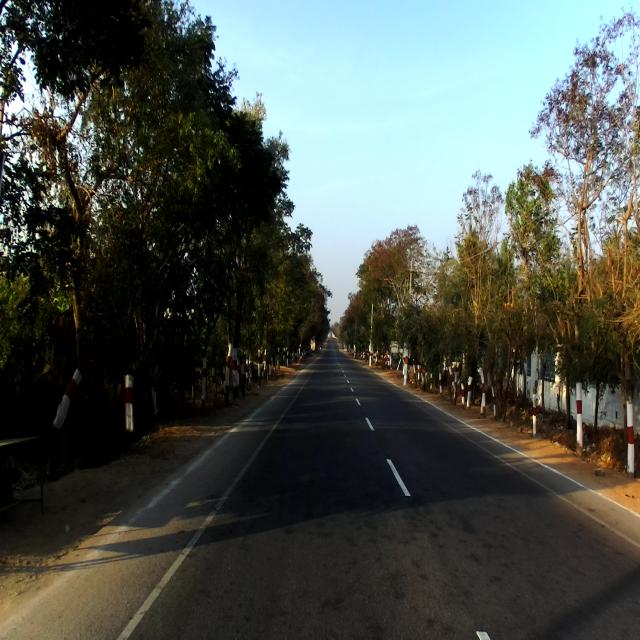tree ahead at: (115, 360, 138, 439), (625, 384, 637, 468), (572, 374, 584, 448)
